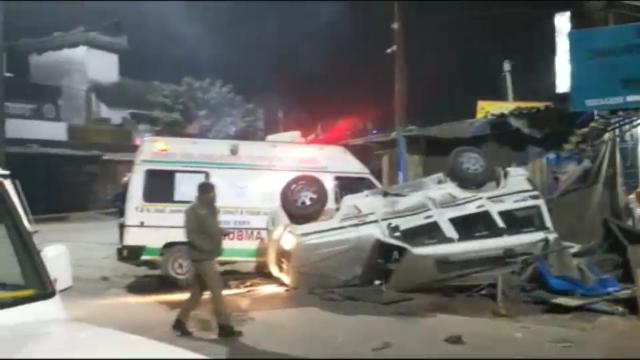ambulance: (108, 125, 384, 286)
